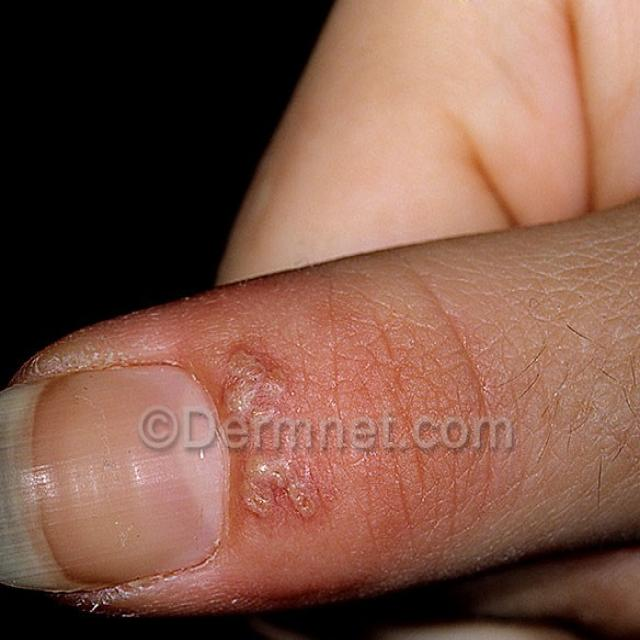Viral Infections: (211, 345, 340, 533)
